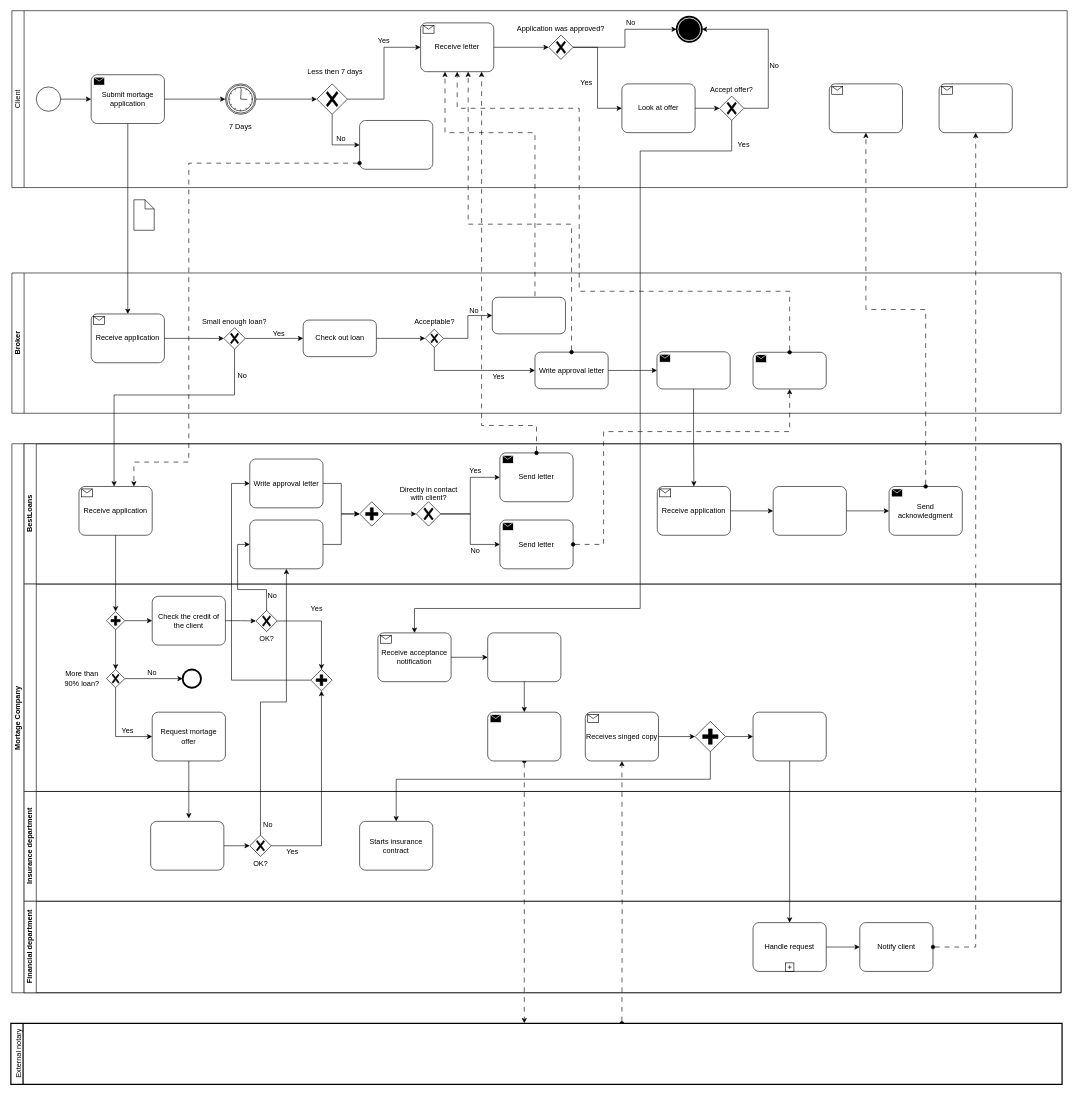
The diagram is 1078 pixels wide and 1096 high, and some of its shapes have lost their labels. Each missing label, with the box of its shape:
Checks for insurance: (150, 821, 224, 870)
Contanct BestLoans: (359, 120, 433, 169)
Forward application: (656, 351, 730, 389)
Forward letter: (752, 352, 826, 389)
Mortage department: (23, 583, 1061, 791)
Receive acknowledgment: (829, 83, 902, 133)
Receive notification: (938, 83, 1012, 133)
Register application: (773, 486, 846, 535)
Send copy to external notary: (487, 712, 561, 761)
Submit disbursement request: (752, 712, 826, 761)
Write decline letter: (492, 297, 565, 334)
Write rejection letter: (249, 519, 323, 569)
Writes a deed: (487, 632, 561, 682)
